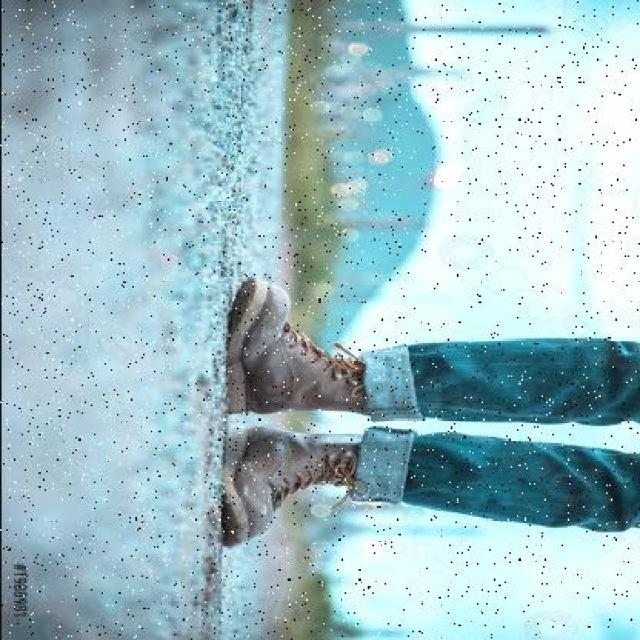shoes: (222, 284, 372, 413), (217, 422, 363, 543)
